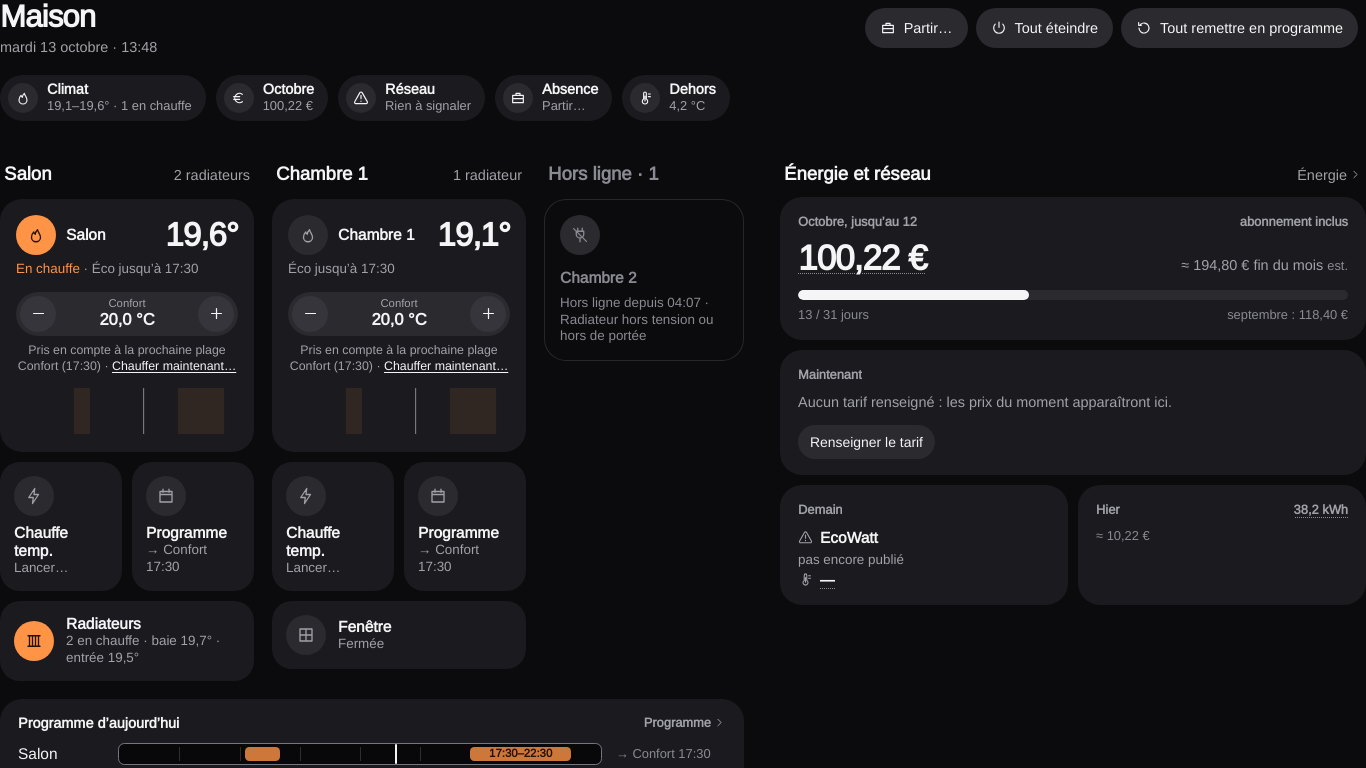
Test case: Maison « Demain »: tomorrow’s heating cost (Plan 15) › a hidden model: « — » and the reason in its Fiche
Click the button named "—, détails": click(828, 579) [820, 568, 836, 590]
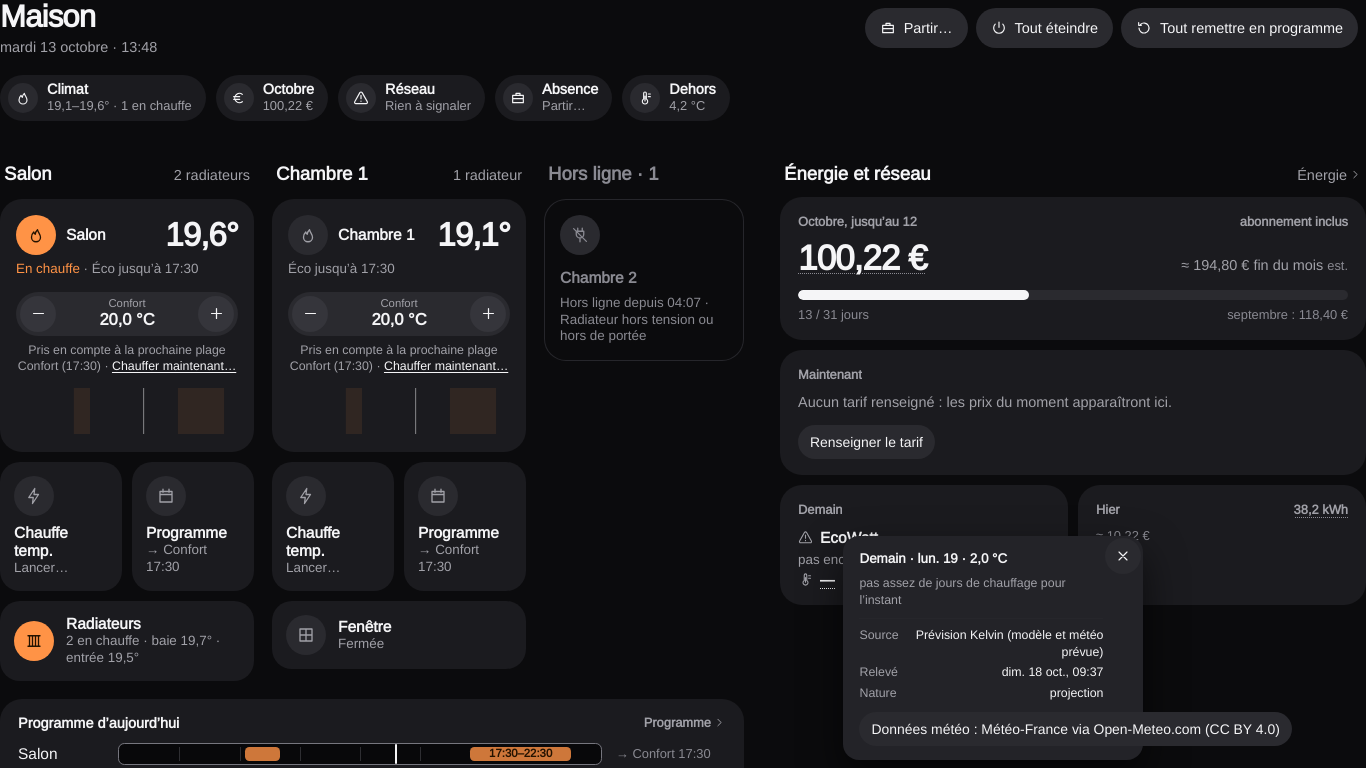
Now the text "pas assez de jours de chauffage pour l’instant" is shown, box [860, 575, 1066, 608]
